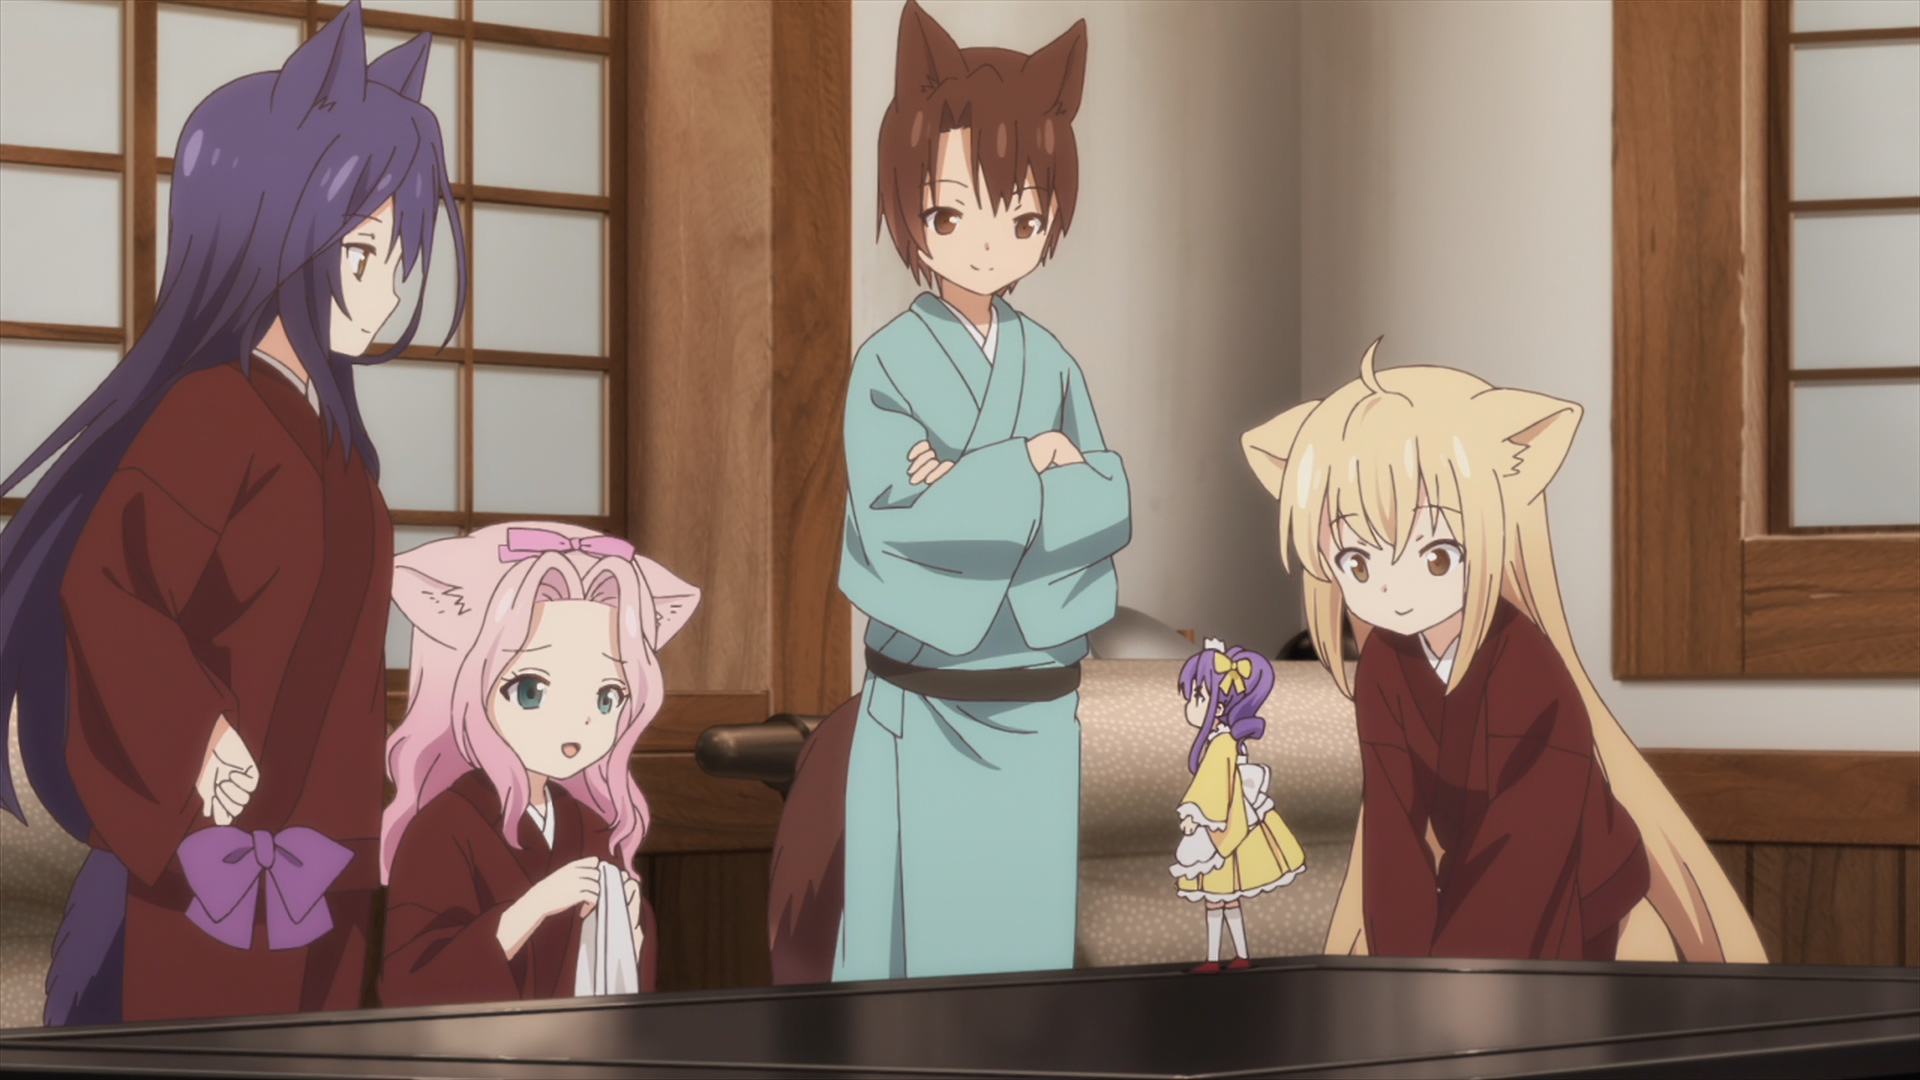枣: (770, 1, 1133, 982)
柚: (1241, 338, 1774, 967)
皋: (1, 1, 469, 1025)
莲: (380, 521, 700, 1007)
阿菊: (1168, 636, 1304, 971)
